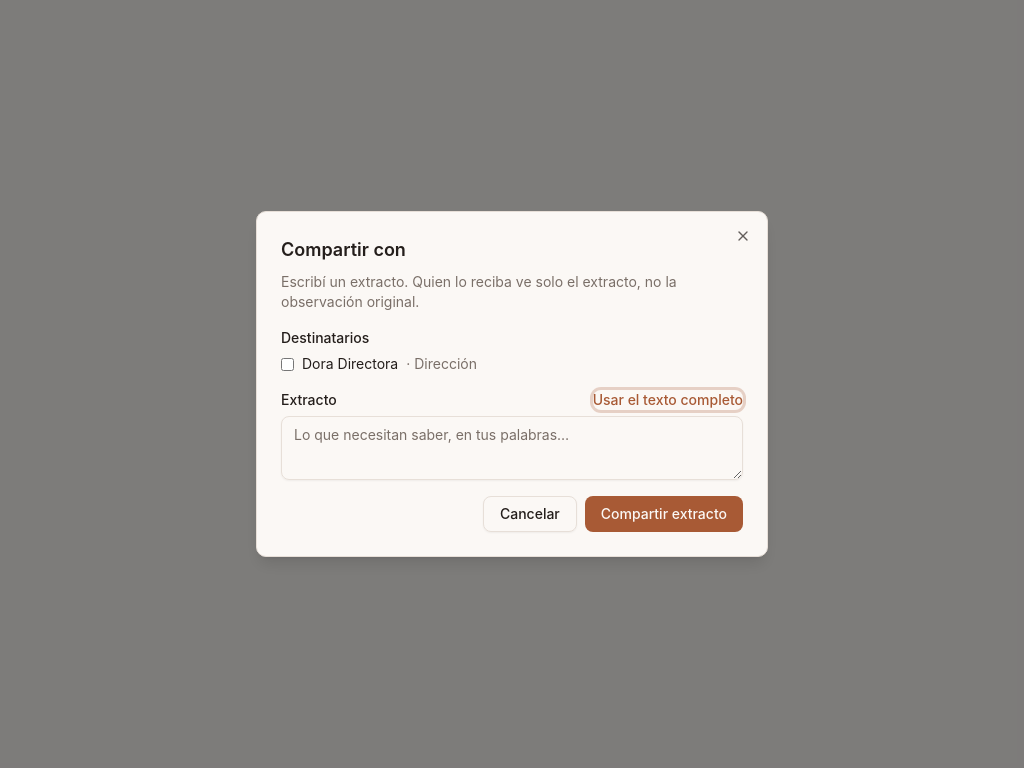
Test: ShareCommentDialog › requires a recipient and an extract before sharing
Expected: the checkbox labelled "Dora Directora · Dirección" is shown, [281,358,294,370]
Click the button "Compartir extracto".
click(664, 514)  # box [585,496,743,532]
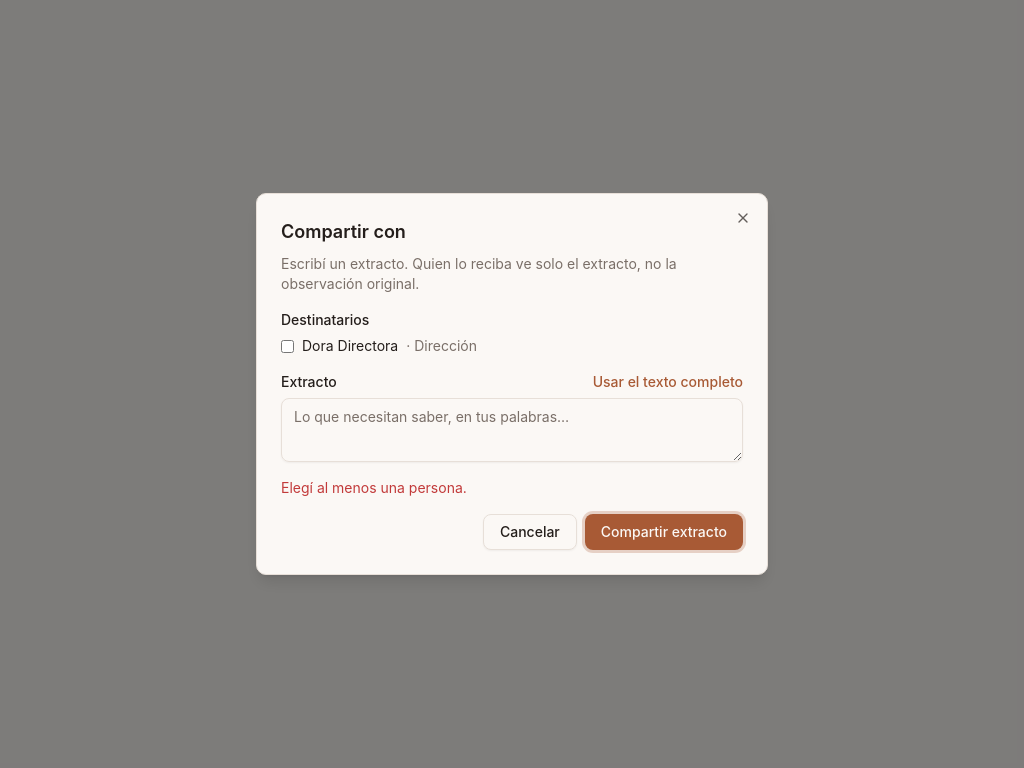
Now the text "Elegí al menos una persona." is shown, box [281,479,467,496]
Click the checkbox labelled "Dora Directora · Dirección".
click(288, 346)  # box [281,340,294,352]
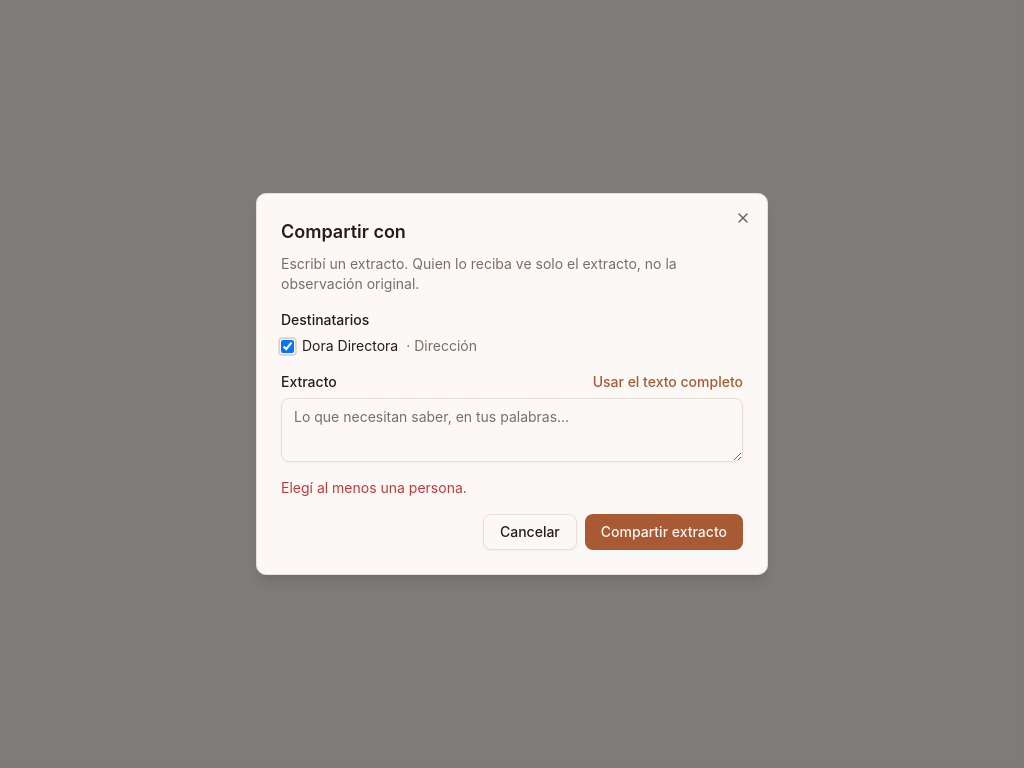
Click the button "Compartir extracto".
click(664, 532)  # box [585,514,743,550]
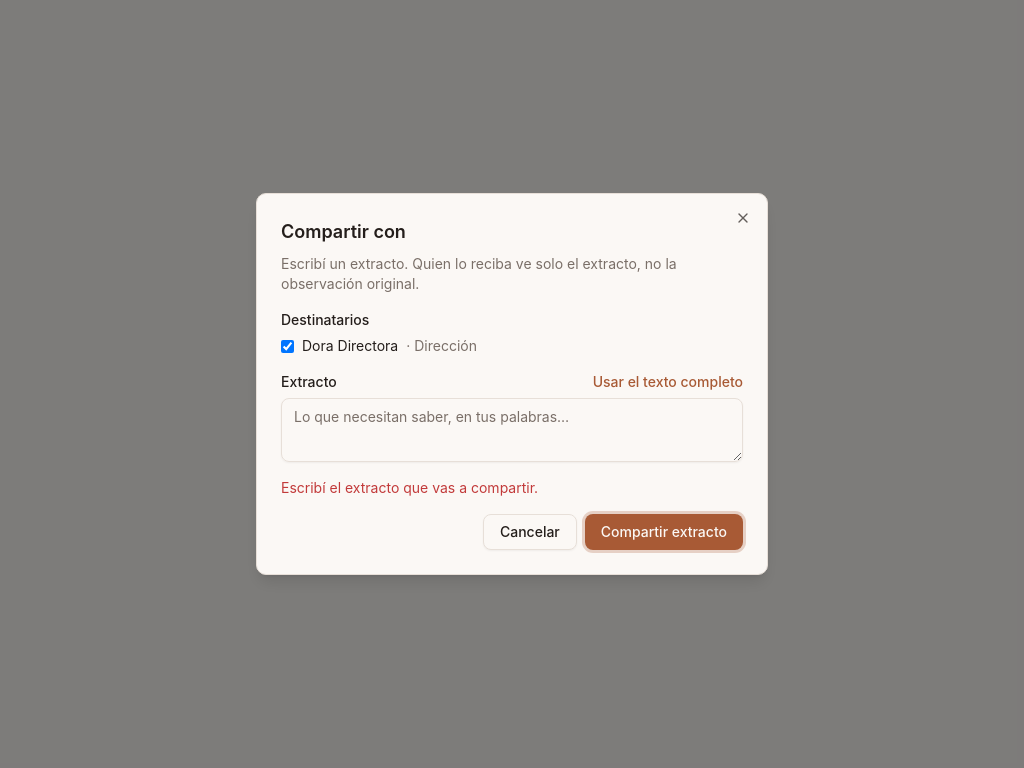
Now the text "Escribí el extracto que vas a compartir." is shown, box [281,479,538,496]
